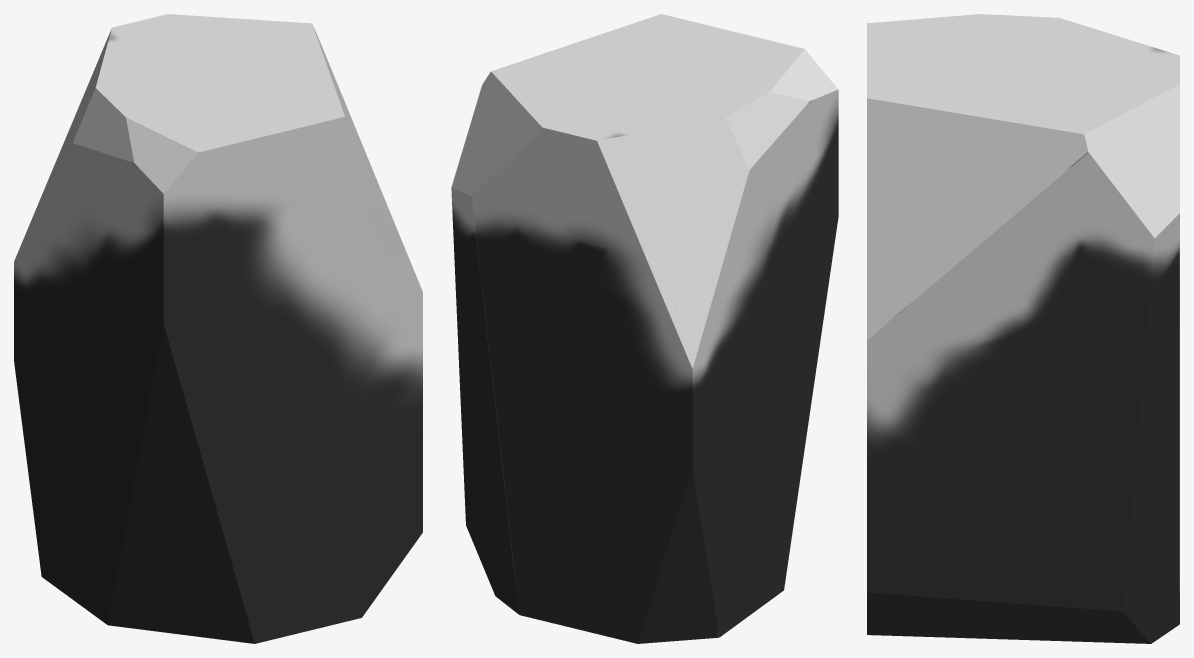
File: TallRock2.fbx
3 renders of one model, left to right at view 1: azimuth 30°, elevation 25°; view 2: azimuth 150°, elevation 25°; view 3: azimuth 270°, elevation 25°, orthographic. The views are drawn at different scales.
Parts seen in each view (by area): view 1: TallRock2; view 2: TallRock2; view 3: TallRock2.
Boxes of the visible parts, x1,y1,x2,y2 form: TallRock2: [14, 14, 422, 643]; TallRock2: [451, 14, 838, 643]; TallRock2: [867, 14, 1179, 643].
Size of the model in its own units: 431 by 804 by 431.
1 material, 1 textured.
